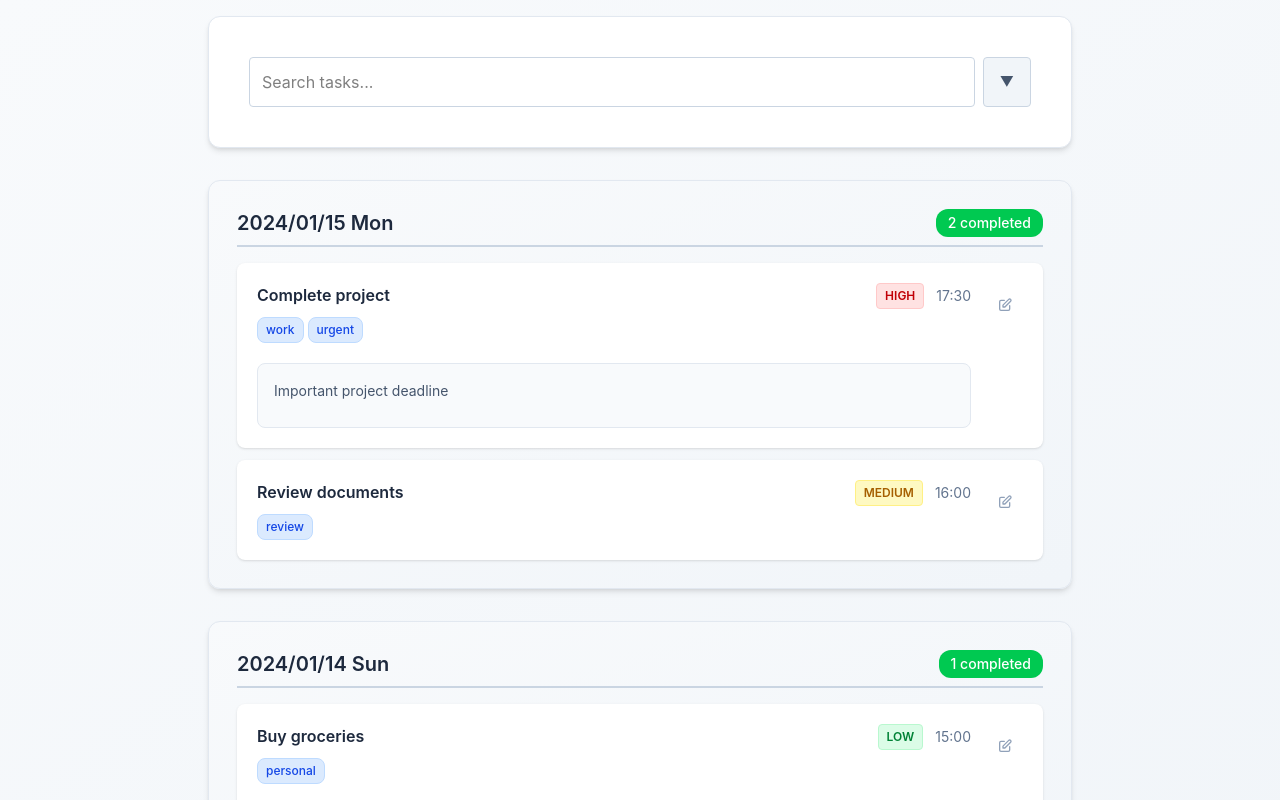
Test case: Archive Component › Archive Filter Functionality › filters tasks by tags
The image size is (1280, 800).
Expected: the heading "Complete project" is shown, left=257, top=285, right=390, bottom=305
Note: Show advanced filters first
What coordinates should you click on to do the following:
click the button named "Show advanced filters"
I would click on:
 (1007, 82)
Its box is left=983, top=57, right=1031, bottom=107.
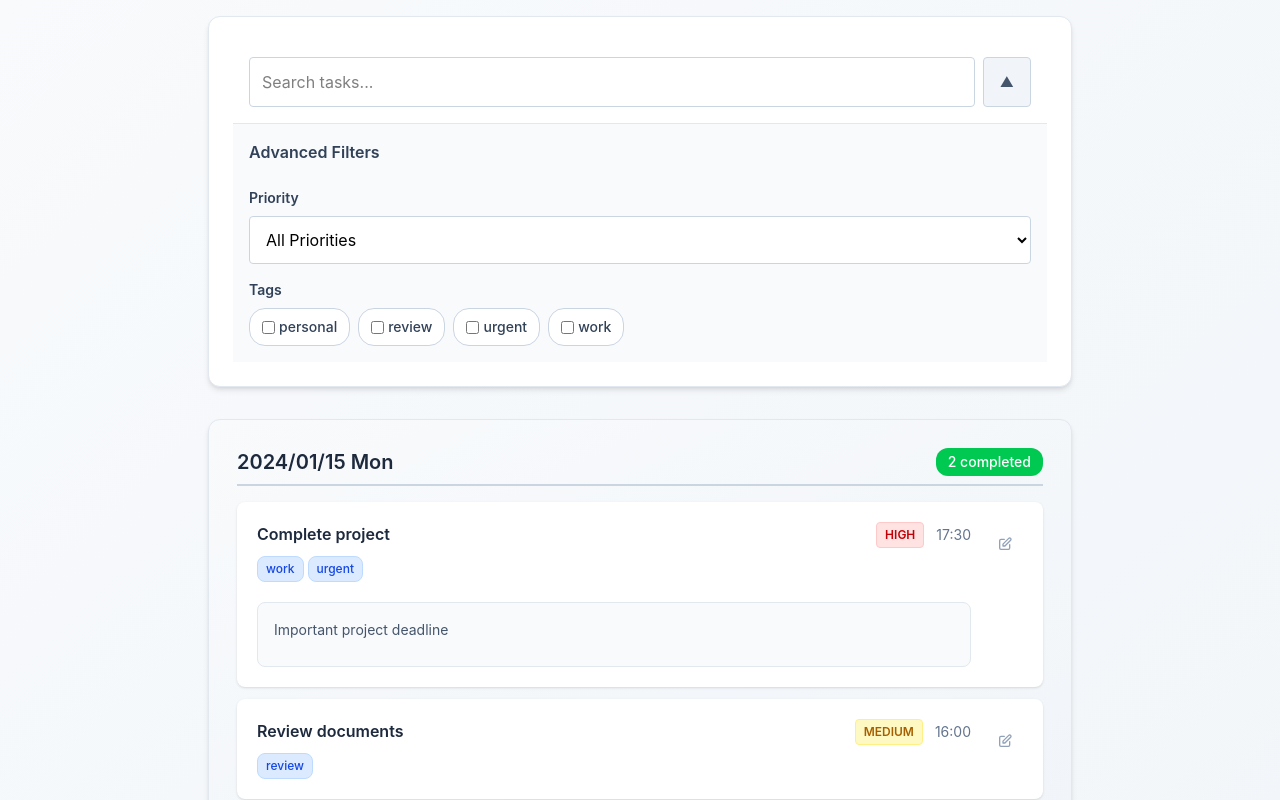
Note: Filter by "work" tag (use the checkbox input specifically)
What coordinates should you click on to do the following:
click the checkbox labelled "work"
I would click on:
 (568, 327)
Its box is left=561, top=320, right=574, bottom=334.
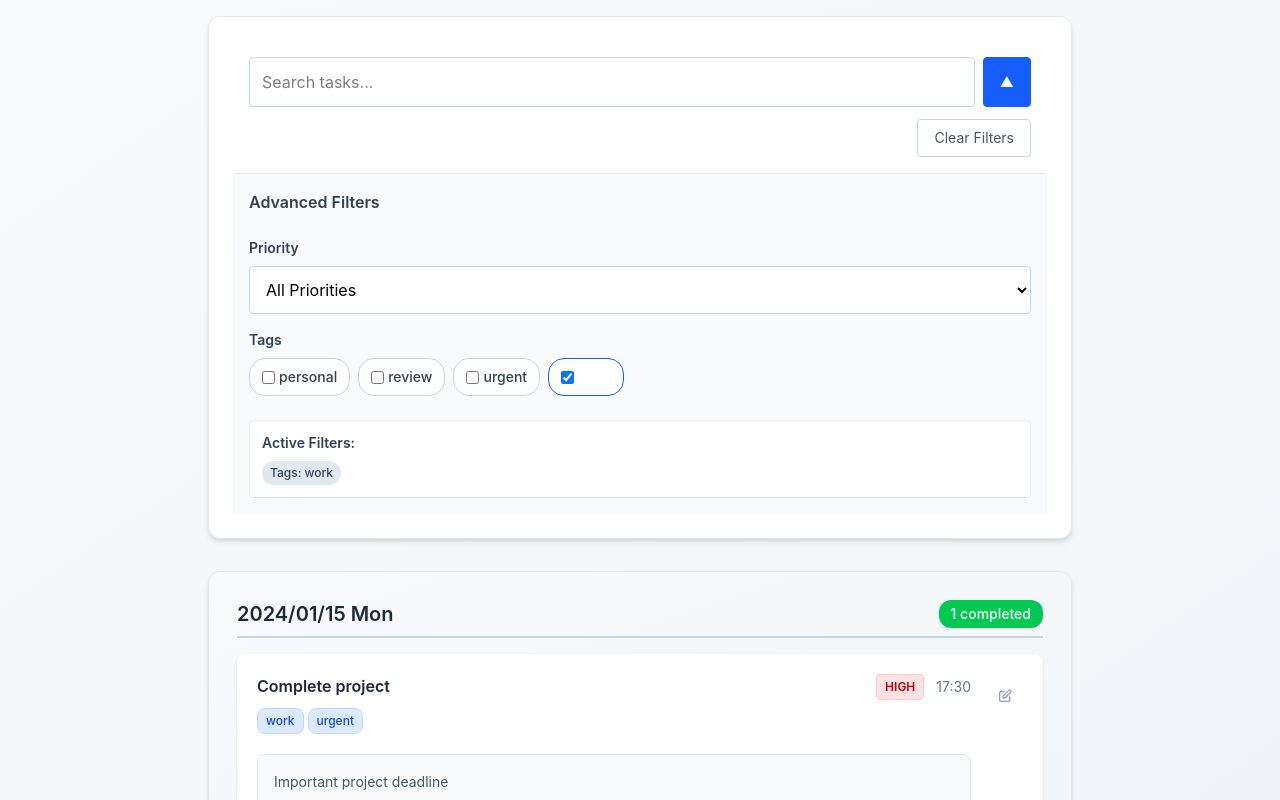
Expected: the heading "Complete project" is shown, left=257, top=676, right=390, bottom=696
Expected: the heading "Review documents" is gone
